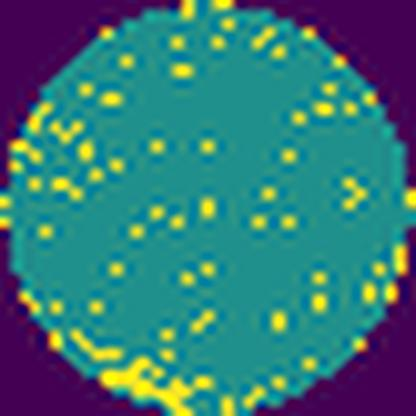Edge-Loc: (94, 354, 215, 416)
